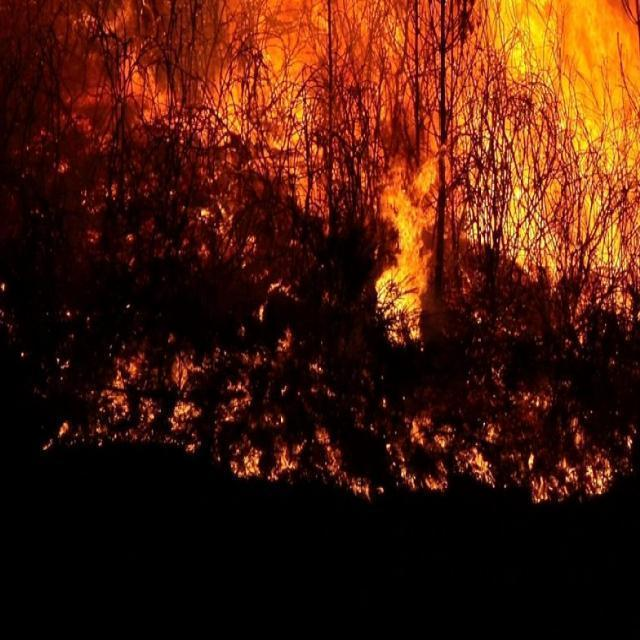Fire: (110, 0, 640, 481)
